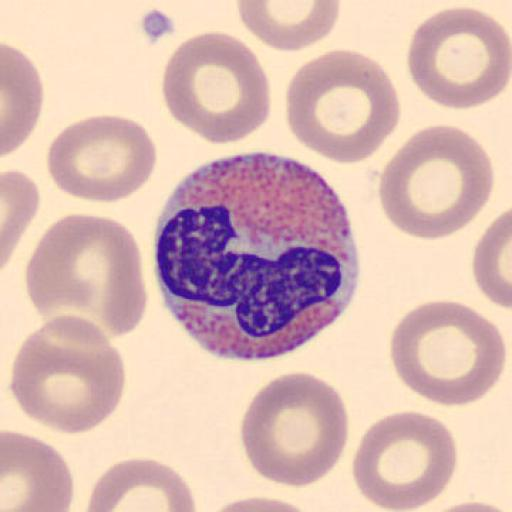RBC: (24, 212, 148, 341), (9, 314, 128, 435), (284, 48, 402, 166), (377, 123, 495, 241), (238, 369, 349, 489), (160, 29, 271, 146), (388, 298, 506, 408), (406, 5, 511, 112), (350, 409, 458, 512), (46, 112, 159, 205), (85, 455, 197, 512), (2, 429, 76, 512), (235, 0, 342, 52), (2, 42, 44, 157), (472, 205, 512, 311), (1, 166, 39, 272), (204, 493, 323, 512), (414, 500, 512, 512)
WBC: (152, 155, 364, 361)
